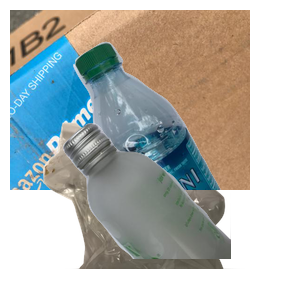cardboard: (10, 10, 250, 190)
glass: (60, 120, 300, 300)
plastic: (71, 39, 300, 219)
trash: (41, 120, 276, 300)
